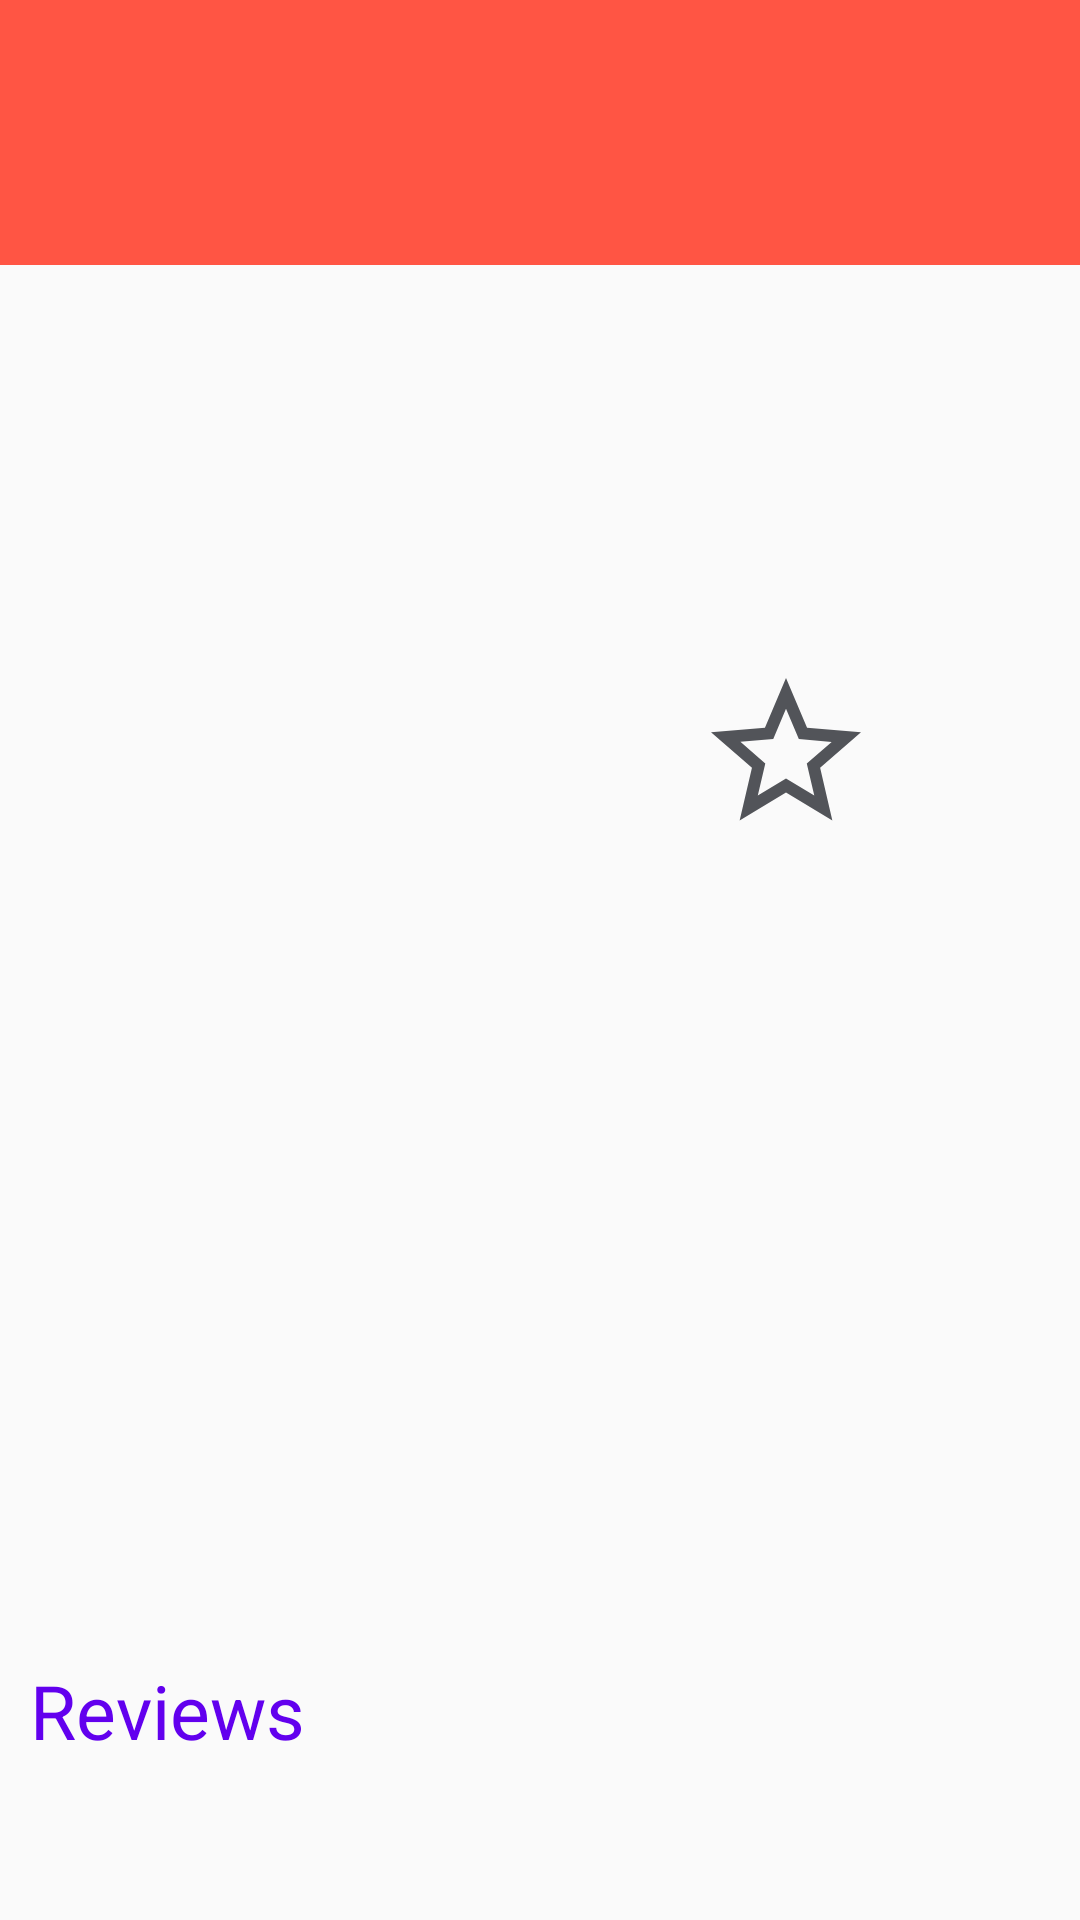

Named icons in this screenshot (1080*1920) and their bounding boxes, BBox(x1, y1, x2, y2):
star border: BBox(711, 678, 861, 820)
